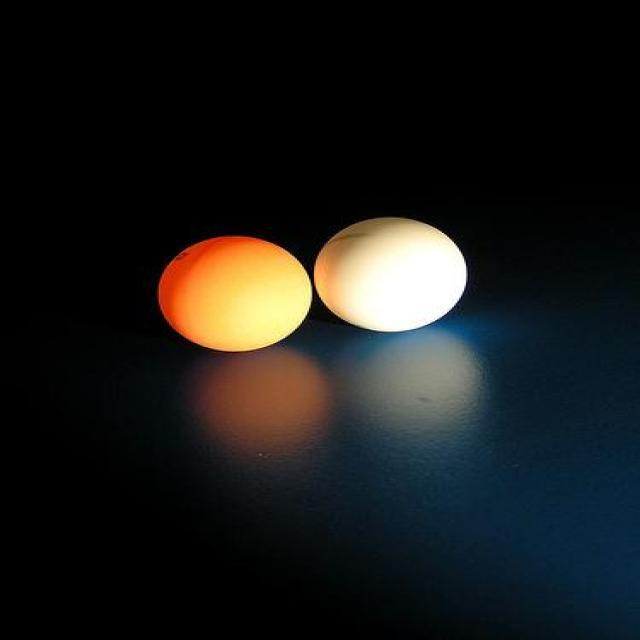ping-pong-ball: (312, 216, 470, 334), (160, 234, 314, 354)
